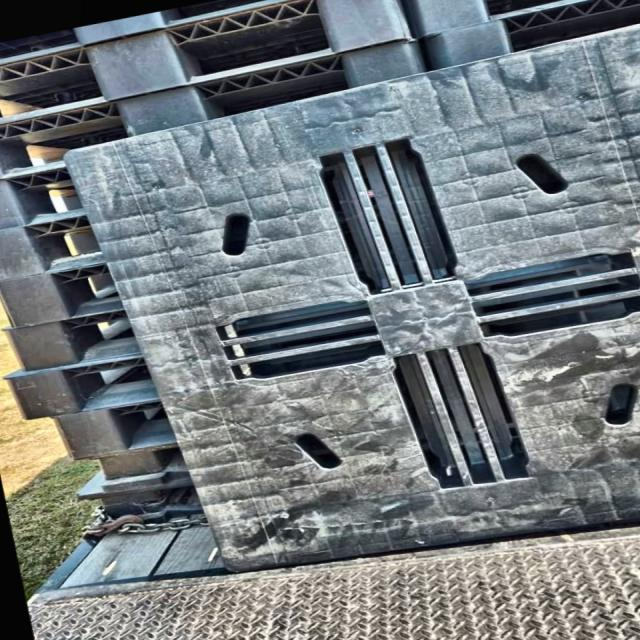non-igps: (55, 15, 640, 577), (0, 0, 640, 183), (0, 165, 205, 525)
